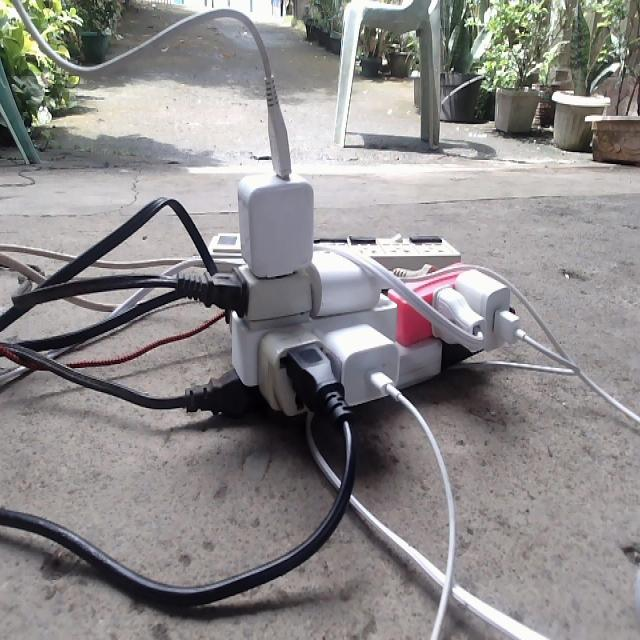-: (165, 69, 528, 436)
